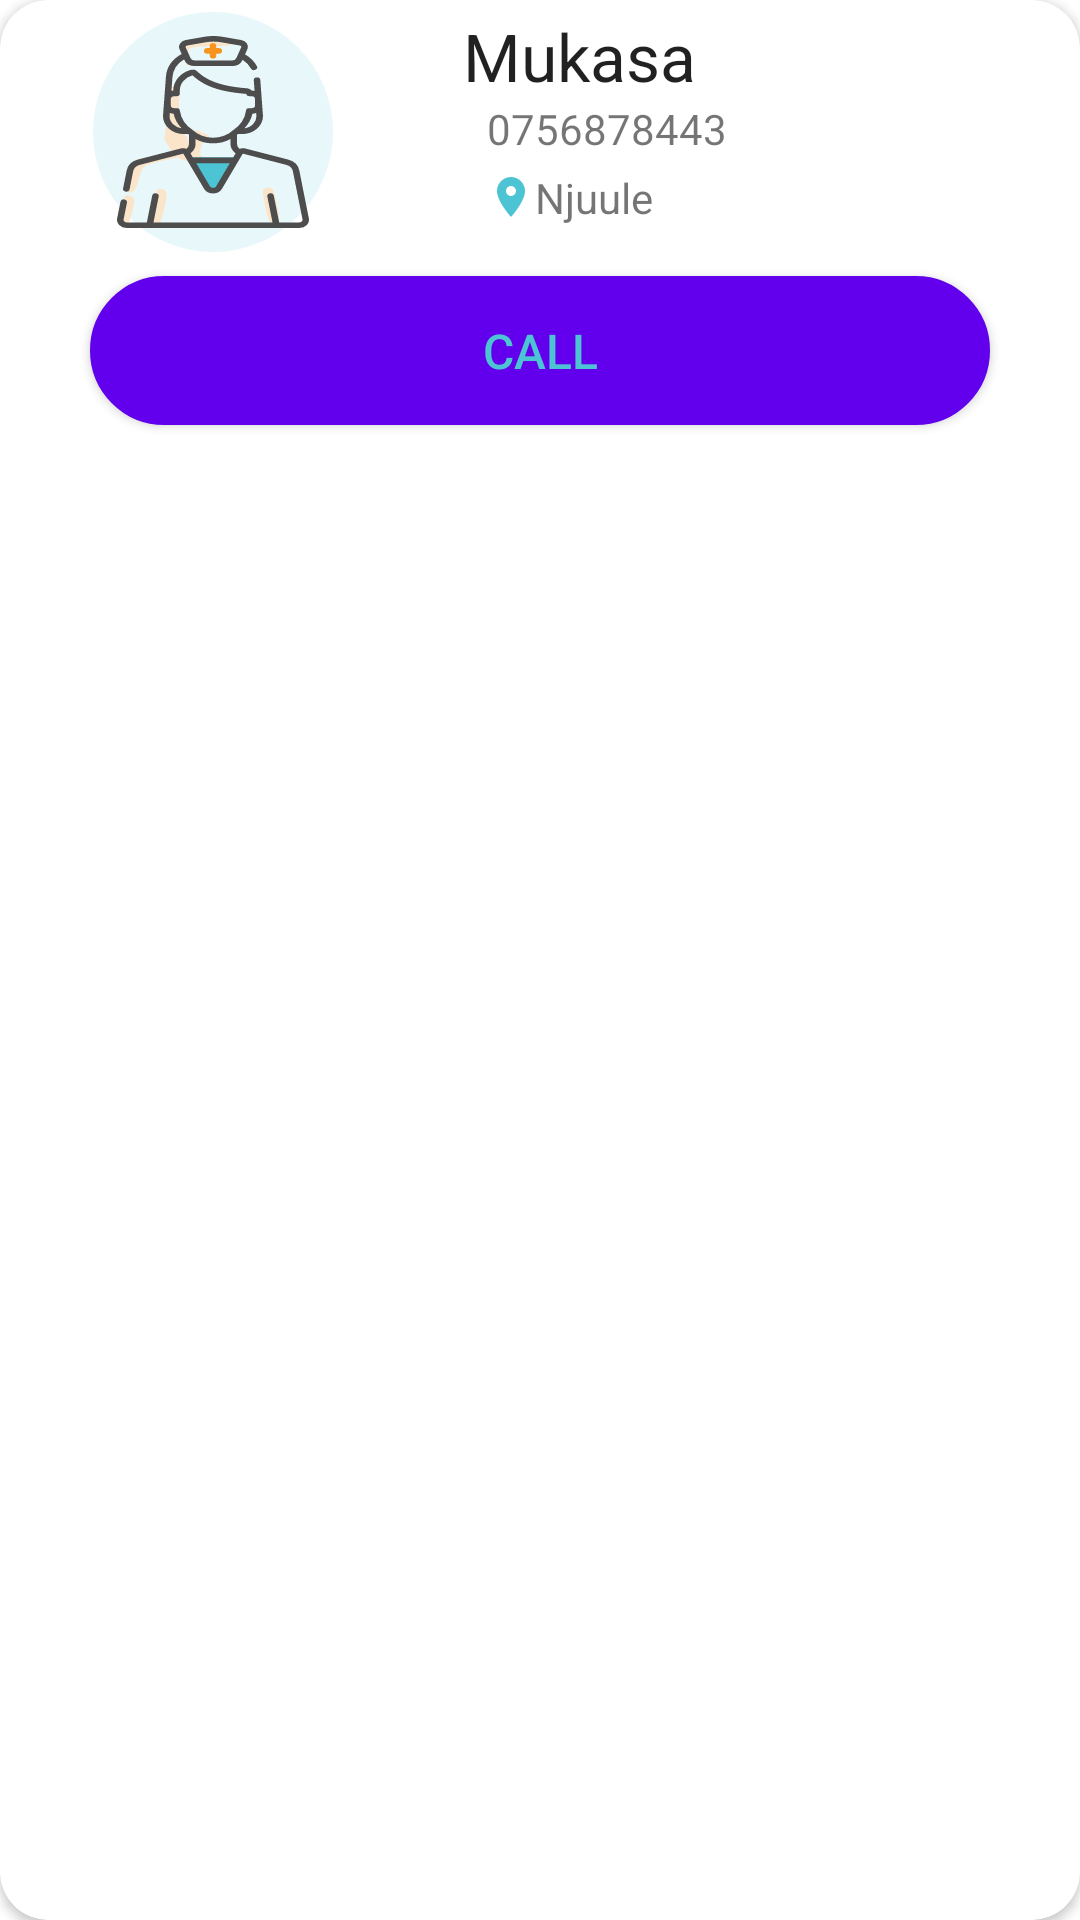

Screen size 1080x1920. Icon name, then its box in pixels as [x1,y1,x2,y2]:
nurse: [93,12,333,252]
